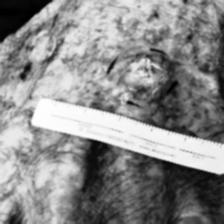Potentially Malignant Skin Tumors: (134, 56, 160, 78), (116, 87, 140, 101), (154, 86, 170, 100)
